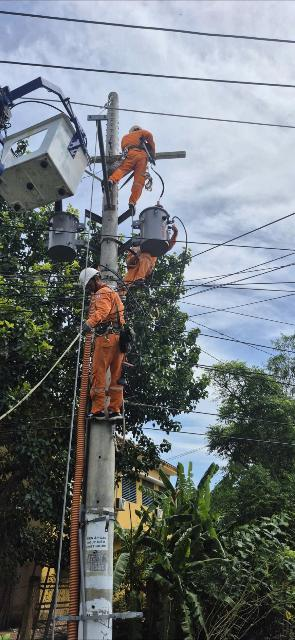gloves: (145, 150, 160, 164), (81, 319, 94, 335), (136, 246, 146, 259), (170, 221, 179, 234)
harness: (101, 321, 125, 331), (129, 258, 144, 268), (127, 145, 144, 151)
helmet: (79, 266, 97, 282), (126, 124, 143, 133)
shoes: (80, 406, 108, 422), (106, 406, 127, 422), (103, 179, 119, 198), (127, 201, 142, 216), (136, 277, 148, 287)
